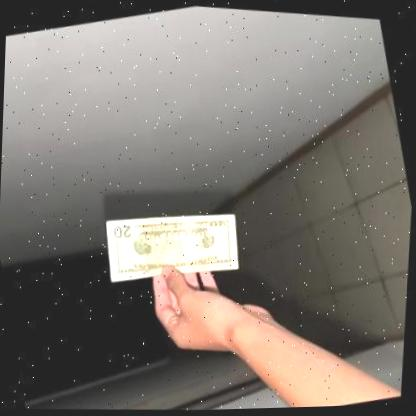dollar_back: (97, 184, 251, 300)
